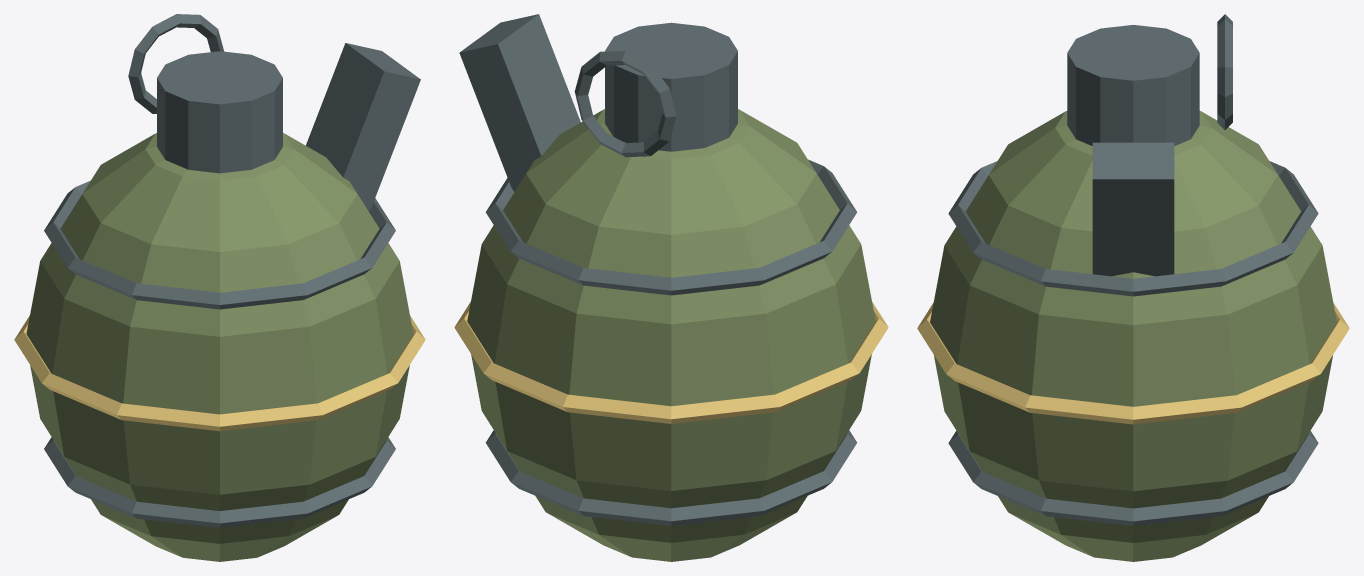
File: grenade.glb
3 views of the same model, side by side, from view 1: azimuth 30°, elevation 25°; view 2: azimuth 150°, elevation 25°; view 3: azimuth 270°, elevation 25° (orthographic). The views are drawn at different scales.
Visible parts, largest first — view 1: Fragmentation body; view 2: Fragmentation body; view 3: Fragmentation body.
Part boxes in pixels (left/top/right/bottom): Fragmentation body: left=14, top=14, right=425, bottom=561; Fragmentation body: left=454, top=14, right=888, bottom=561; Fragmentation body: left=917, top=14, right=1349, bottom=561.
Bounding box in the file's own units: 0.2241 × 0.2978 × 0.222.
